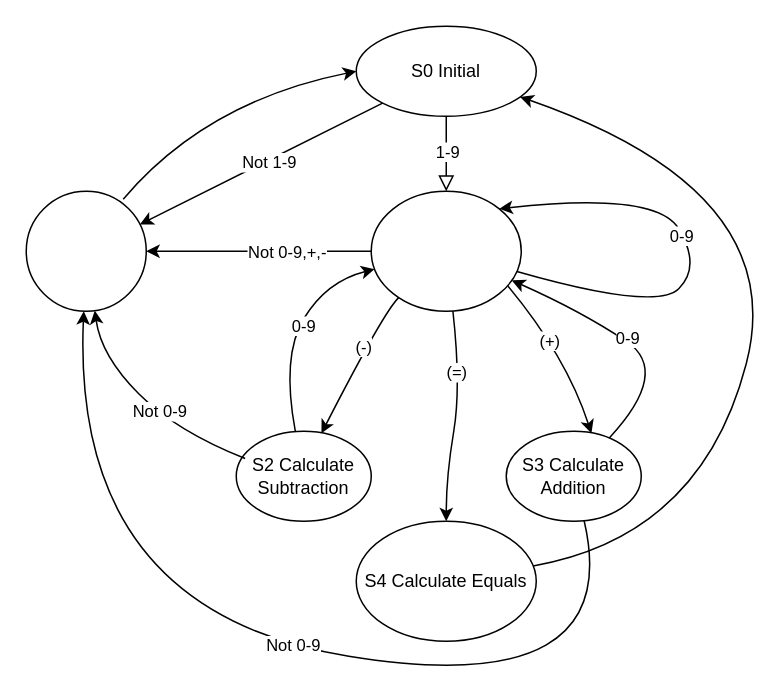
The diagram is 780 pixels wide and 692 high, and some of its shapes have lost their labels. Here are the shapes that lost their labels. From the top down, the centre of each, then its label:
At point 85,250: "S5 Error".
At point 445,250: "S1 Number Accumulation".
